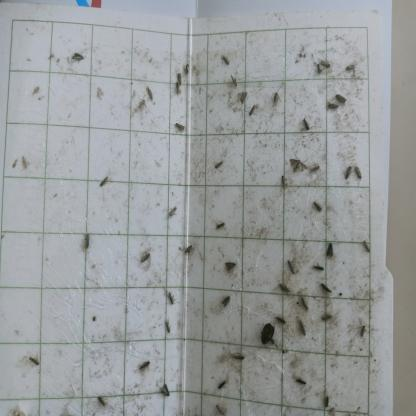prays_oleae: (169, 112, 189, 144), (164, 192, 182, 224), (70, 43, 90, 71), (284, 250, 302, 280), (178, 238, 198, 262), (233, 346, 250, 374), (288, 152, 309, 174), (270, 313, 291, 334), (27, 351, 45, 375), (224, 253, 240, 280), (134, 249, 155, 269), (77, 231, 94, 255), (164, 284, 180, 309), (162, 314, 176, 342), (98, 168, 112, 195), (159, 377, 174, 401), (296, 314, 309, 341), (269, 84, 281, 113), (217, 291, 235, 310), (134, 93, 148, 117), (353, 157, 365, 185), (211, 151, 226, 173), (138, 356, 152, 379), (146, 79, 158, 105), (324, 238, 336, 264), (281, 167, 291, 197), (316, 54, 331, 74), (319, 309, 336, 326), (213, 219, 231, 235), (342, 59, 358, 77), (236, 88, 249, 109), (319, 280, 335, 297), (310, 156, 320, 182), (299, 294, 309, 320), (325, 98, 341, 114), (95, 395, 110, 412), (216, 376, 231, 393), (173, 65, 184, 88), (362, 235, 373, 258), (278, 282, 291, 301), (170, 83, 185, 99), (334, 90, 348, 107), (248, 100, 259, 120), (301, 114, 314, 130), (219, 52, 230, 70), (227, 73, 239, 89), (183, 61, 193, 79), (344, 164, 353, 184), (309, 204, 324, 216), (214, 401, 227, 414), (312, 262, 328, 272), (322, 395, 332, 411), (294, 380, 313, 388)
